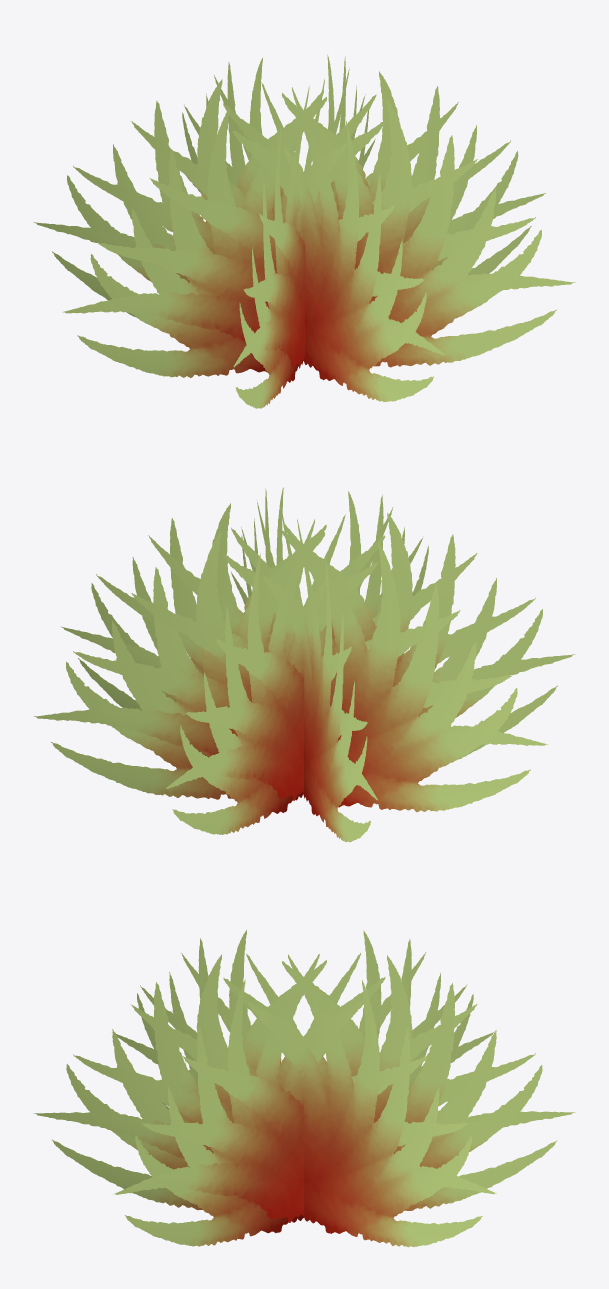
Rendered from HP3_weed074 1.fbx.
The picture shows the model from 3 angles, top to bottom: view 1: azimuth 30°, elevation 25°; view 2: azimuth 150°, elevation 25°; view 3: azimuth 270°, elevation 25°; orthographic projection. The views are drawn at different scales.
Parts seen in each view (by area): view 1: HP3_weed074; view 2: HP3_weed074; view 3: HP3_weed074.
Part boxes in pixels (x1=…): HP3_weed074: x1=33, y1=54, x2=575, y2=408; HP3_weed074: x1=33, y1=487, x2=575, y2=842; HP3_weed074: x1=33, y1=930, x2=575, y2=1247.
Size of the model in its own units: 10.43 by 5.93 by 10.43.
